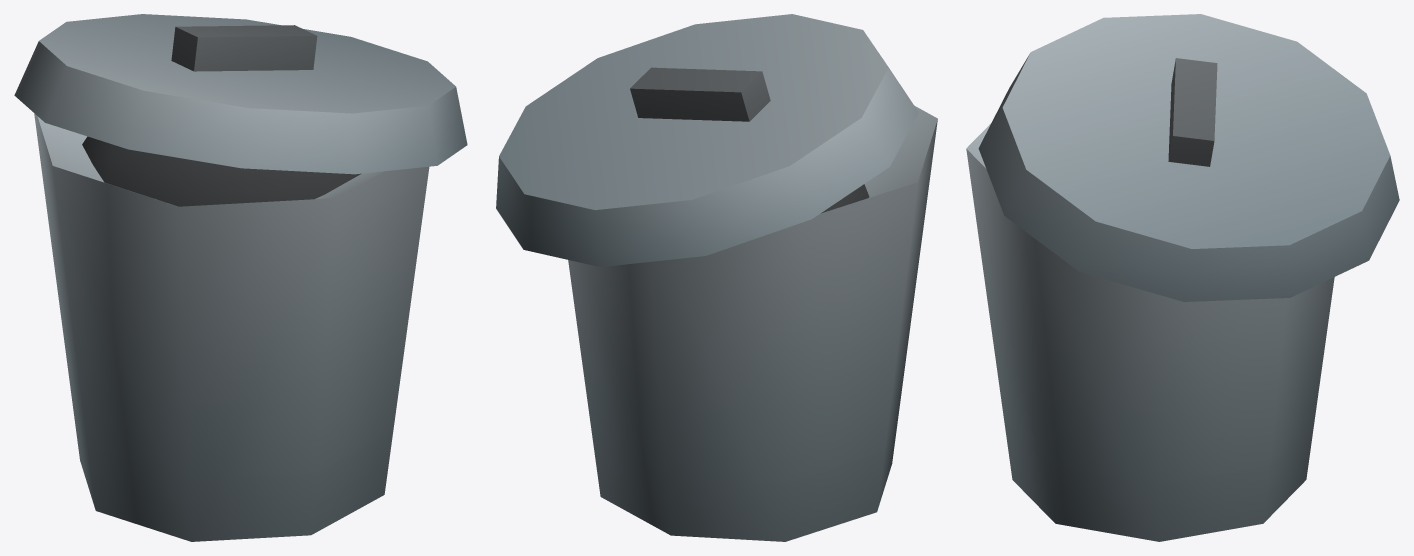
File: Trash_Can_06.glb
3 renders of one model, left to right at view 1: azimuth 30°, elevation 25°; view 2: azimuth 150°, elevation 25°; view 3: azimuth 270°, elevation 25°, orthographic. The views are drawn at different scales.
Parts seen in each view (by area): view 1: Trash_Can_06; view 2: Trash_Can_06; view 3: Trash_Can_06.
Boxes of the visible parts, x1,y1,x2,y2 form: Trash_Can_06: (14,14,467,541); Trash_Can_06: (496,14,937,541); Trash_Can_06: (966,14,1399,541).
Size of the model in its own units: 1.15 by 1.21 by 1.16.
1 material, 1 textured.
